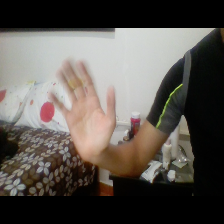left: (43, 57, 120, 163)
